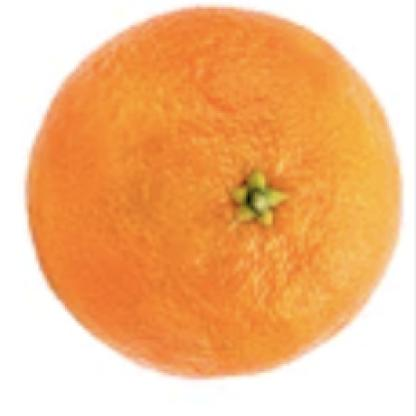fresh: (26, 7, 406, 375)
